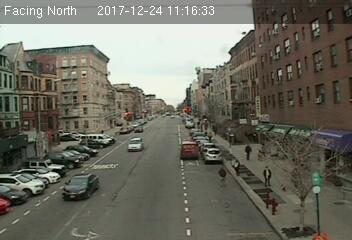car: (62, 173, 99, 202), (201, 148, 222, 164), (180, 141, 197, 159), (127, 137, 144, 152)
pedestrian: (263, 164, 273, 189), (244, 142, 252, 160)
